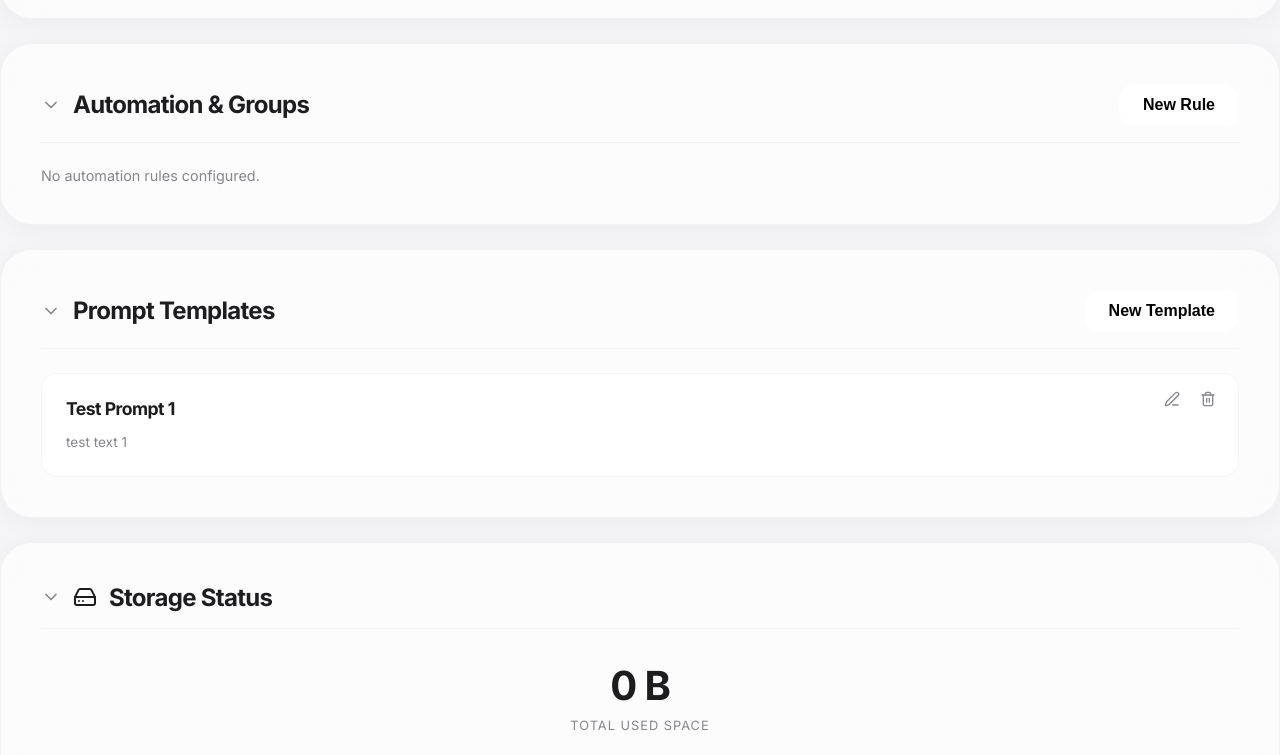
Test: EngineTab › can edit and delete prompts
(page scrolled)
Expected: the heading "Test Prompt 1" is shown, [66,398,175,419]
Click the 4th button at (1208, 400), box [1194,390,1222,411]
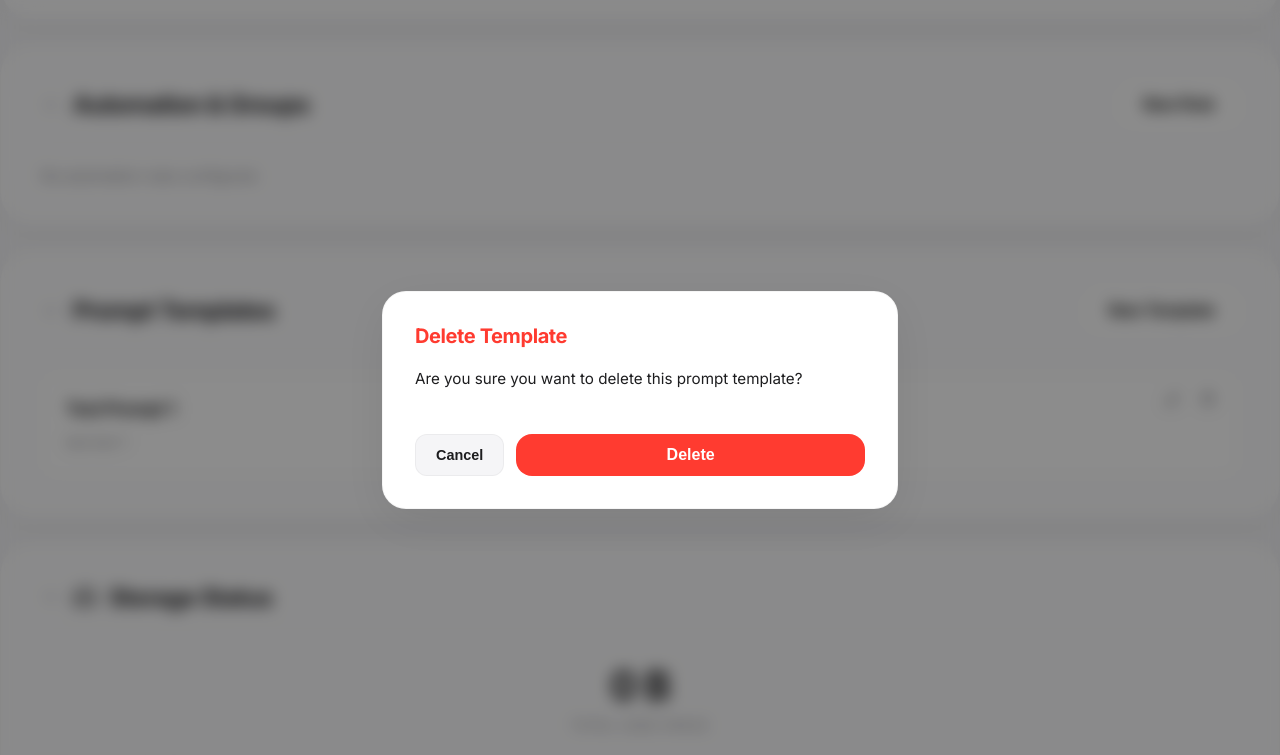
Result: the text "Are you sure you want to delete this prompt template?" is shown at [415,368,865,390]
Note: The modal button is the btn-primary one, usually the last one rendered
Click the button "Delete" at (691, 455), box [516,434,865,476]
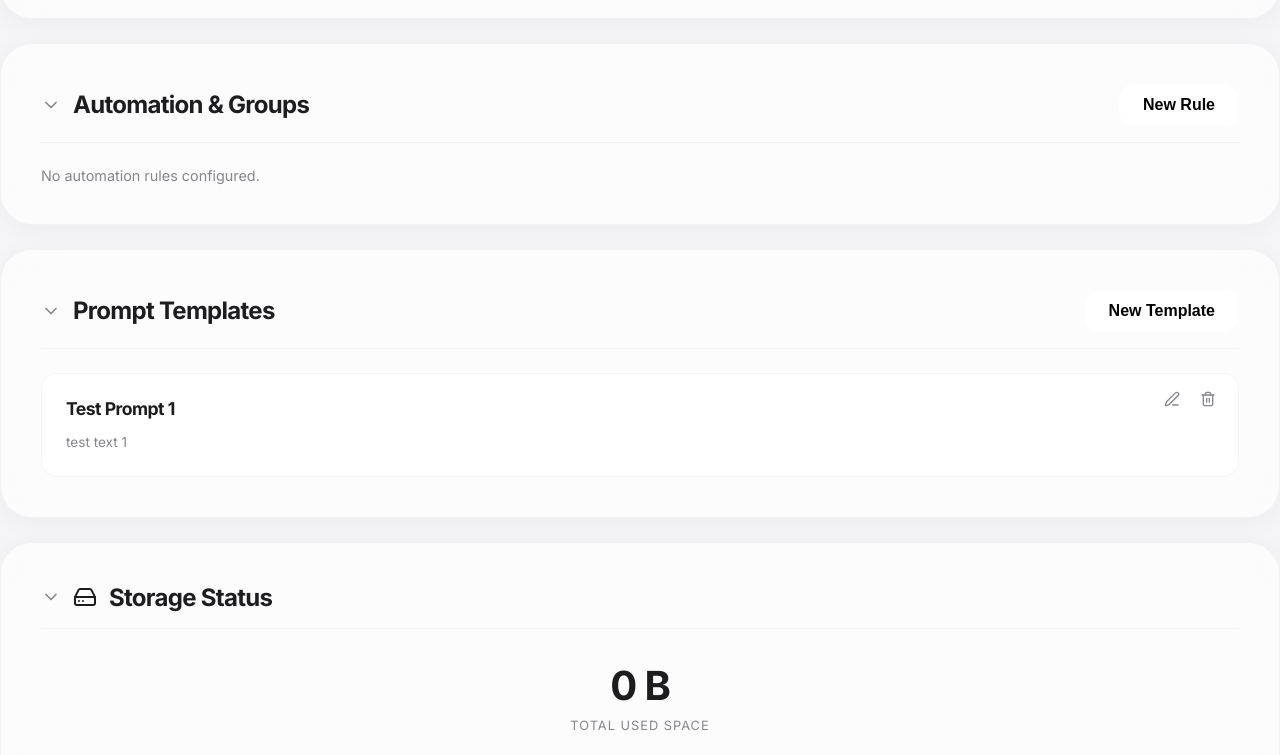
Click the 3rd button at (1172, 400), box [1158,390,1186,411]
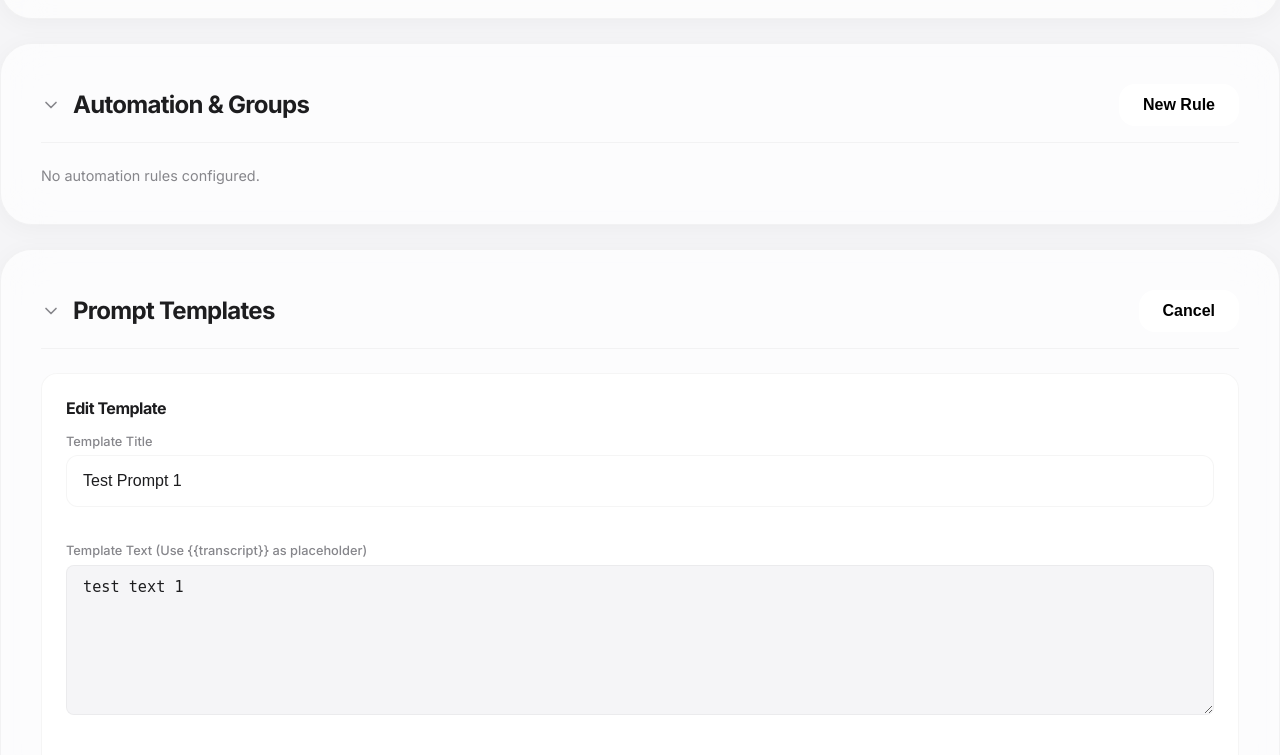
Result: the field showing "Test Prompt 1" is shown at [66,455,1214,507]
Result: the text box showing "test text 1" is shown at [66,565,1214,715]
